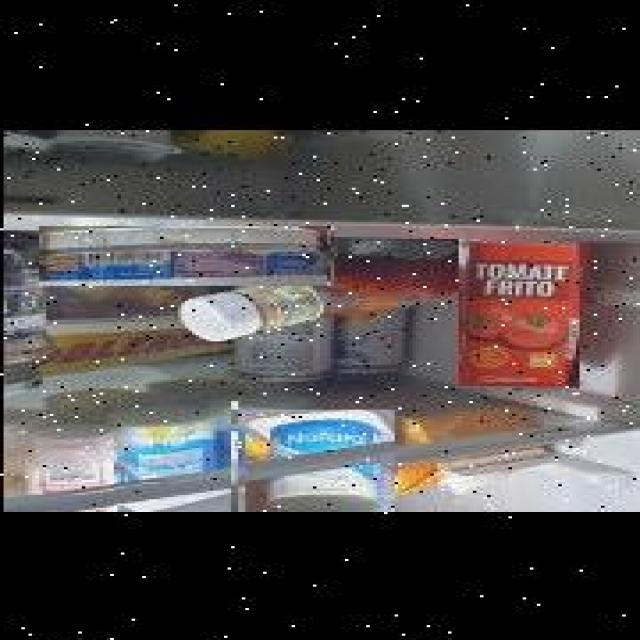cheese: (39, 224, 331, 284)
tomato_sauce: (461, 237, 582, 386)
yogurt: (242, 407, 391, 512), (113, 399, 234, 512)
